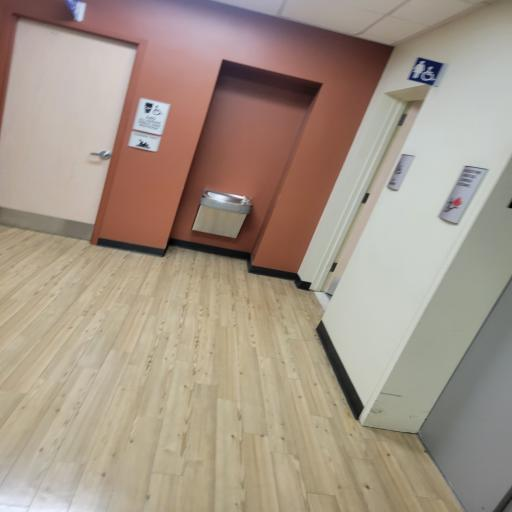bathroom sign: (124, 95, 178, 153)
door: (0, 23, 146, 227)
water fountain: (194, 185, 250, 239)
women bathroom sign: (408, 50, 448, 88)
